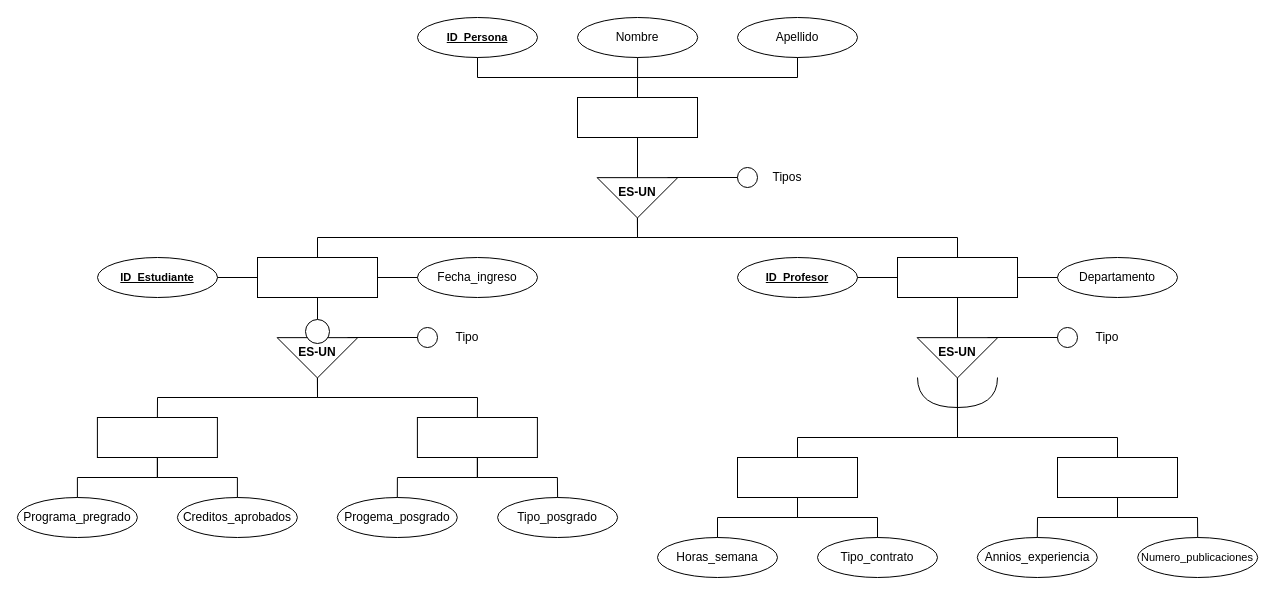
Image size: 1276x595. Some labels were removed from this diagram. Here are the shapes that lost their labels. From the top down, the centre of each, then its label:
At (637,117): "Personas".
At (317,277): "Estudiantes".
At (957,277): "Profesores".
At (156,437): "Pregrados".
At (476,437): "Posgrados".
At (797,477): "Asistentes".
At (1117,477): "Titulares".
